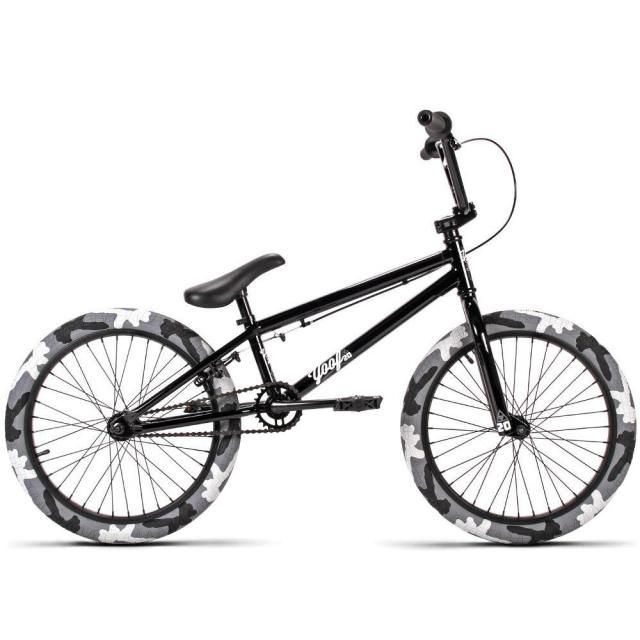bmx-bike: (6, 107, 635, 544)
